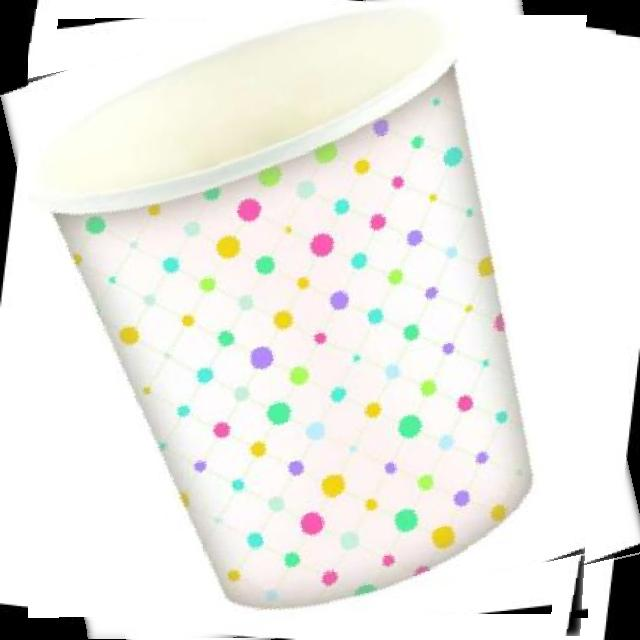non-biodegradable: (28, 0, 618, 640)
